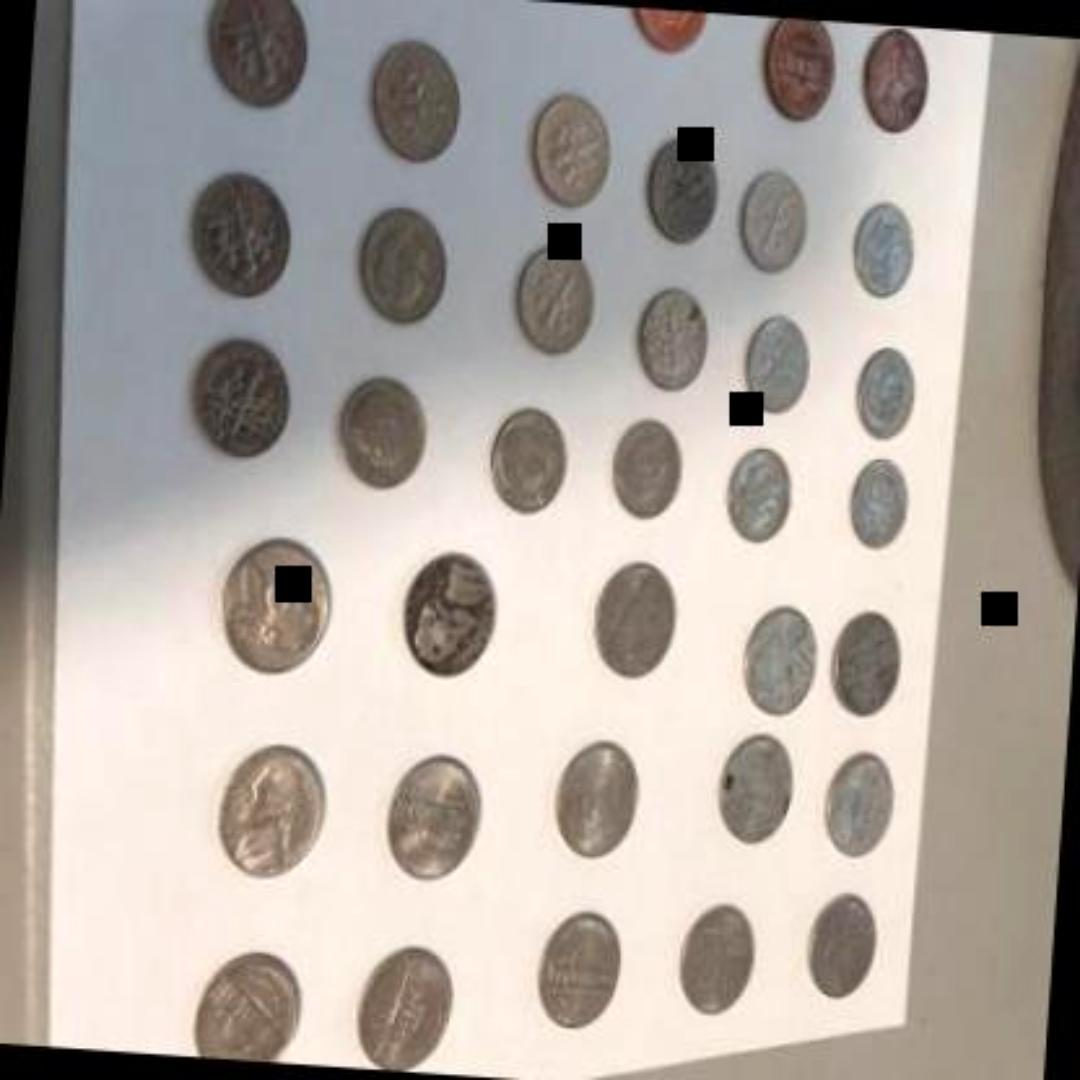Dime: (183, 166, 305, 304), (186, 331, 296, 468), (330, 366, 436, 498), (366, 32, 468, 168), (352, 201, 453, 330), (201, 1, 312, 112), (523, 92, 617, 217), (483, 395, 573, 519), (505, 241, 595, 360), (628, 280, 714, 398), (606, 414, 692, 528), (642, 133, 726, 247), (732, 168, 818, 278), (716, 436, 802, 545), (740, 308, 812, 424), (847, 198, 919, 307), (848, 341, 920, 444), (846, 450, 912, 558)
Nickel: (377, 738, 491, 890), (214, 534, 336, 674), (391, 546, 510, 682), (216, 740, 330, 880), (348, 939, 464, 1076), (191, 937, 313, 1064), (542, 728, 654, 864), (580, 552, 686, 688), (528, 902, 630, 1032), (672, 897, 768, 1021), (797, 880, 887, 1012), (713, 722, 803, 852), (818, 744, 904, 866), (824, 602, 910, 722), (736, 602, 820, 720)
Penny: (756, 14, 840, 134), (857, 23, 937, 137), (617, 5, 713, 64)
